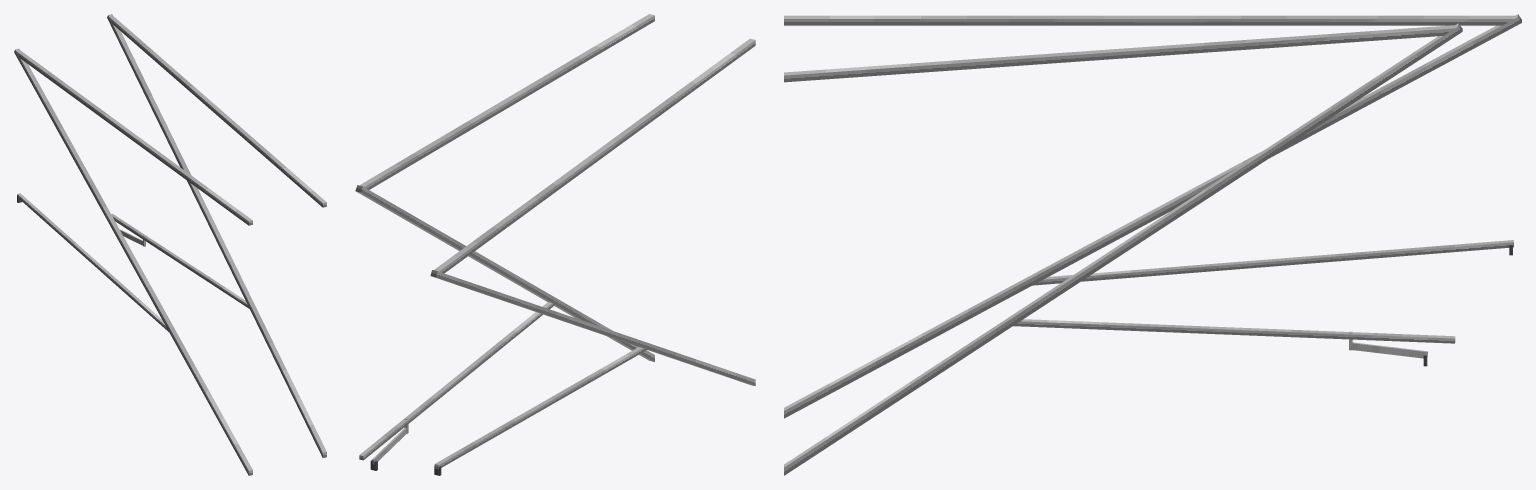
The model's file is cantilever_inner_12px.obj.
The picture shows the model from 3 angles, left to right: view 1: azimuth 30°, elevation 25°; view 2: azimuth 150°, elevation 25°; view 3: azimuth 270°, elevation 25°; orthographic projection. The views are drawn at different scales.
Parts seen in each view (by area): view 1: 9d6a12f3-df5e-411e-8d54-02848077d661, 6157813a-1680-4b2e-b94c-4a2548d001ef, 7e0a297e-9b93-4ba0-b1f4-0041d985b0eb, 19484167-6814-434c-9b23-1f43ca7b2af9, da889597-28ff-45f7-8283-b3935ade46a3, 8ac3c0eb-79e4-4ce1-b5df-449e06826779; view 2: 7e0a297e-9b93-4ba0-b1f4-0041d985b0eb, 19484167-6814-434c-9b23-1f43ca7b2af9, 9d6a12f3-df5e-411e-8d54-02848077d661, 6157813a-1680-4b2e-b94c-4a2548d001ef, da889597-28ff-45f7-8283-b3935ade46a3, 8ac3c0eb-79e4-4ce1-b5df-449e06826779; view 3: 6157813a-1680-4b2e-b94c-4a2548d001ef, 7e0a297e-9b93-4ba0-b1f4-0041d985b0eb, 9d6a12f3-df5e-411e-8d54-02848077d661, 19484167-6814-434c-9b23-1f43ca7b2af9, da889597-28ff-45f7-8283-b3935ade46a3, 8ac3c0eb-79e4-4ce1-b5df-449e06826779.
Boxes of the visible parts, <box> form: 9d6a12f3-df5e-411e-8d54-02848077d661: <box>14,48,252,475</box>; 6157813a-1680-4b2e-b94c-4a2548d001ef: <box>107,14,326,457</box>; 7e0a297e-9b93-4ba0-b1f4-0041d985b0eb: <box>16,50,252,225</box>; 19484167-6814-434c-9b23-1f43ca7b2af9: <box>109,16,326,207</box>; da889597-28ff-45f7-8283-b3935ade46a3: <box>17,193,168,331</box>; 8ac3c0eb-79e4-4ce1-b5df-449e06826779: <box>111,214,249,308</box>; 7e0a297e-9b93-4ba0-b1f4-0041d985b0eb: <box>434,38,755,273</box>; 19484167-6814-434c-9b23-1f43ca7b2af9: <box>359,14,654,189</box>; 9d6a12f3-df5e-411e-8d54-02848077d661: <box>430,270,755,386</box>; 6157813a-1680-4b2e-b94c-4a2548d001ef: <box>355,185,654,361</box>; da889597-28ff-45f7-8283-b3935ade46a3: <box>434,347,647,469</box>; 8ac3c0eb-79e4-4ce1-b5df-449e06826779: <box>359,302,554,460</box>; 6157813a-1680-4b2e-b94c-4a2548d001ef: <box>784,23,1462,475</box>; 7e0a297e-9b93-4ba0-b1f4-0041d985b0eb: <box>784,15,1514,25</box>; 9d6a12f3-df5e-411e-8d54-02848077d661: <box>784,14,1521,418</box>; 19484167-6814-434c-9b23-1f43ca7b2af9: <box>784,25,1455,82</box>; da889597-28ff-45f7-8283-b3935ade46a3: <box>1033,240,1513,285</box>; 8ac3c0eb-79e4-4ce1-b5df-449e06826779: <box>1013,319,1455,343</box>.
Bounding box in the file's own units: 1.19 × 4.16 × 6.18.
